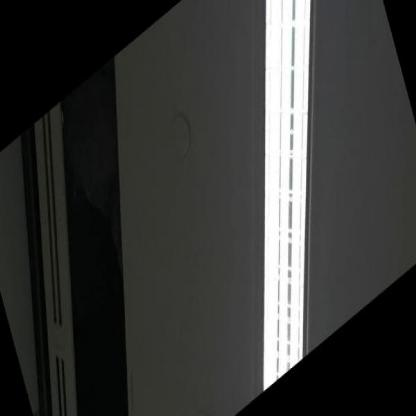light_on: (152, 0, 416, 400)
